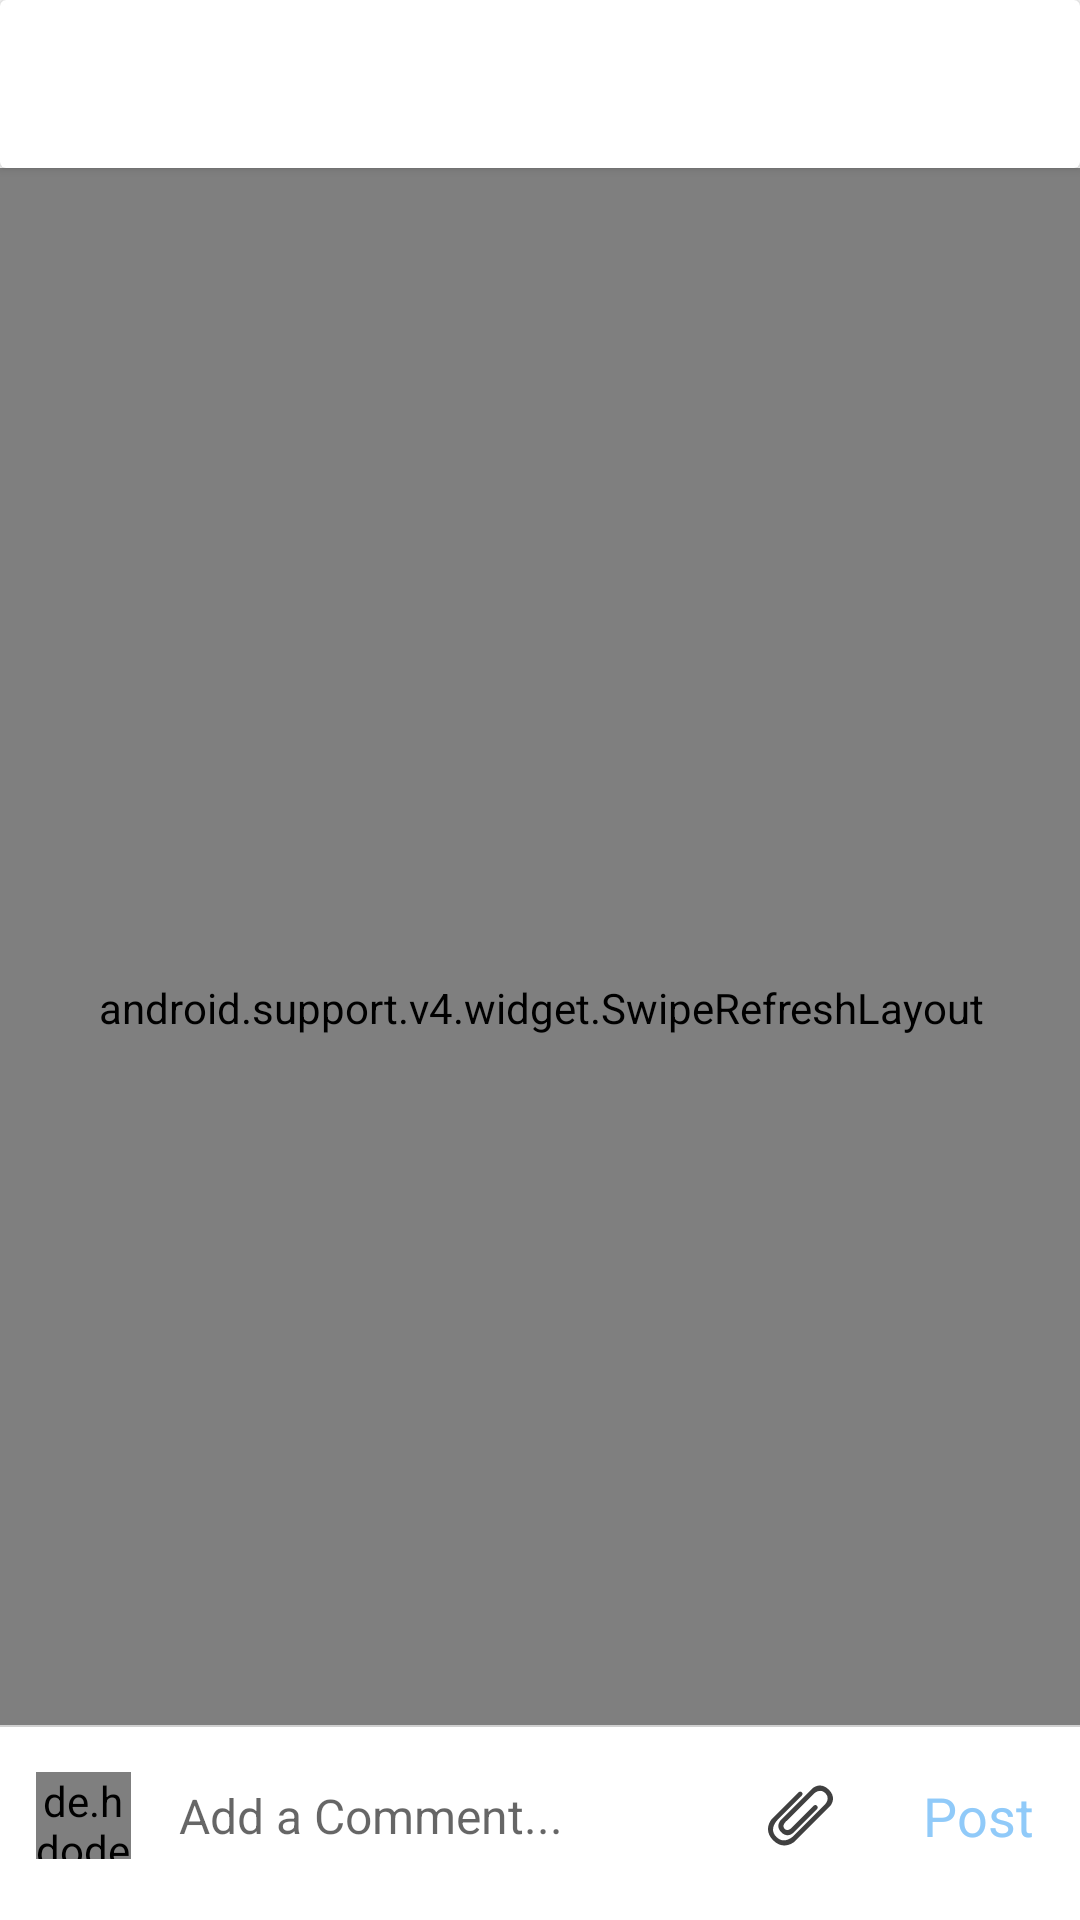

Where icons sit on this 1080px x 1920px app screen, as (x1, y1, x2, y2):
paper clip: (768, 1785, 833, 1846)
